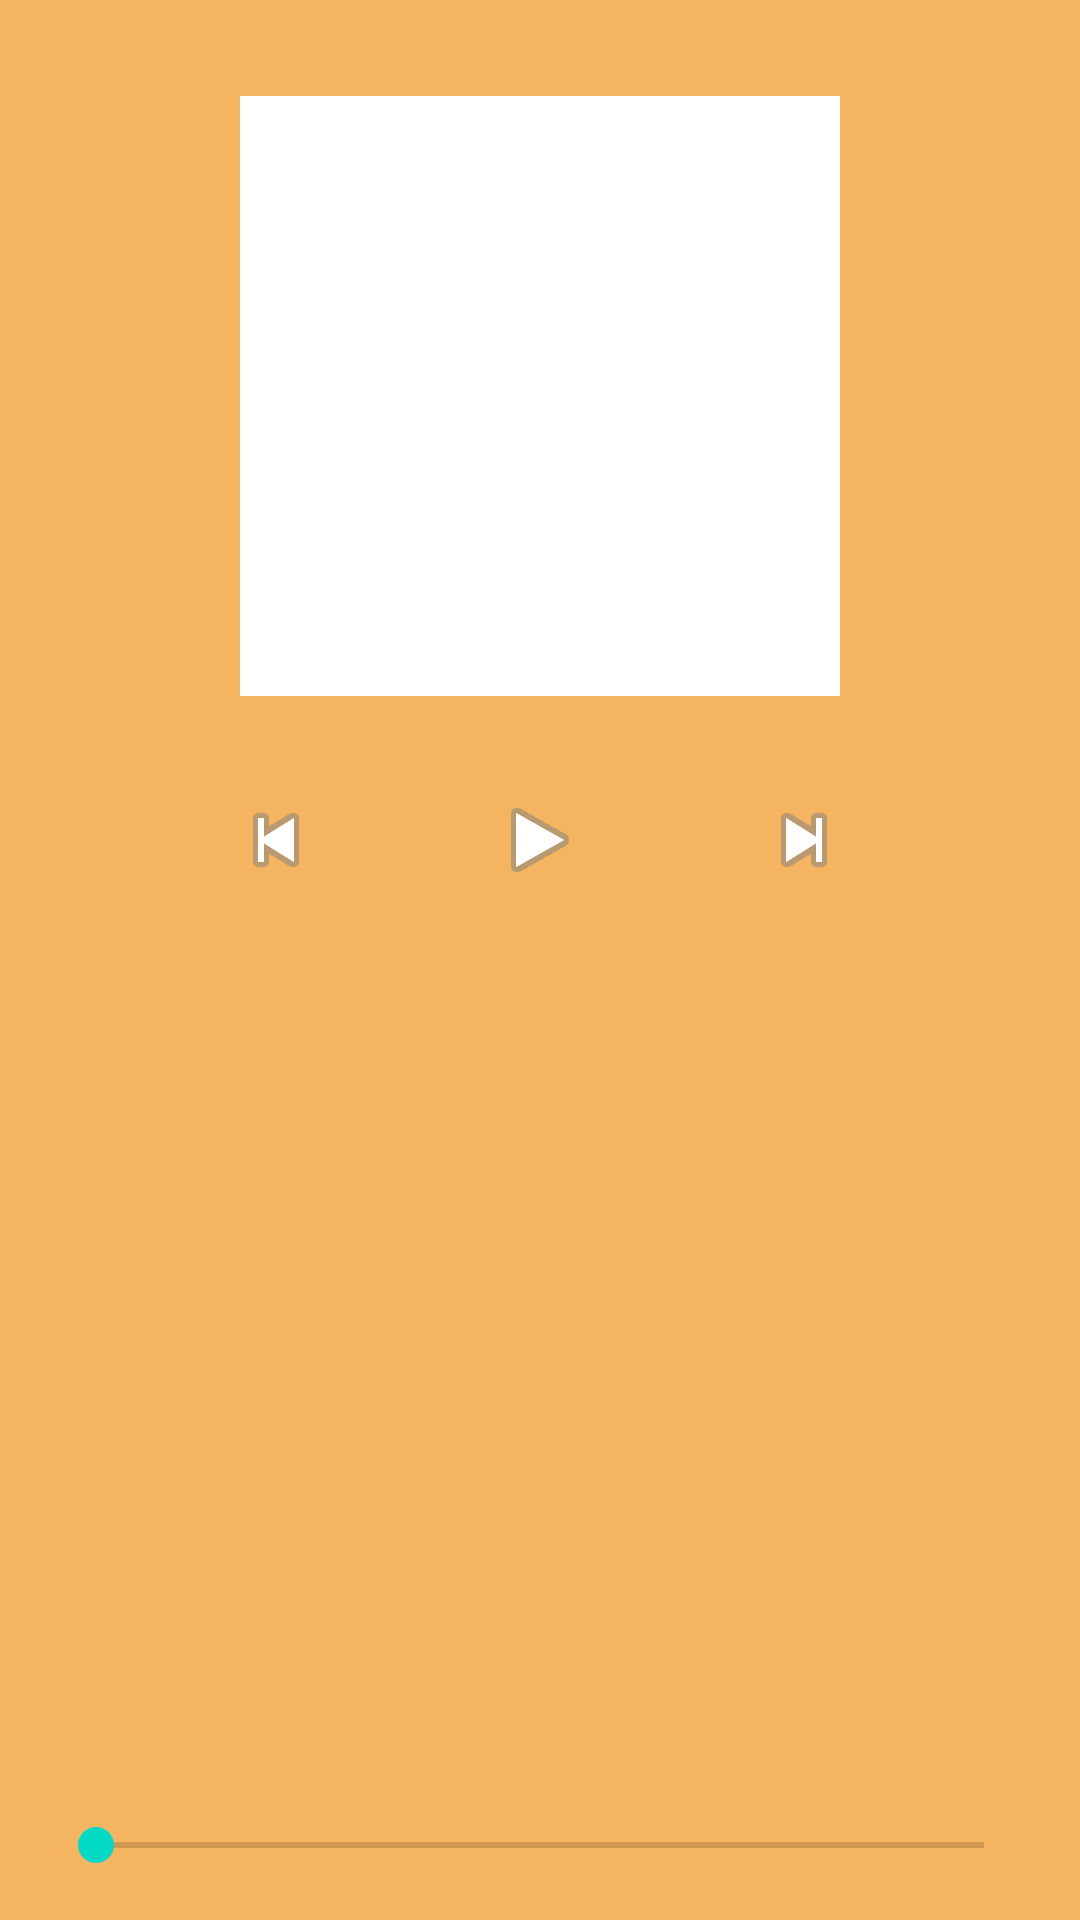

Icons on this 1080w x 1920h Android screen, each with its box as [x1, y1, x2, y2]:
Next track: [781, 813, 827, 867]
Play or pause: [511, 808, 569, 872]
Previous track: [253, 813, 299, 867]
